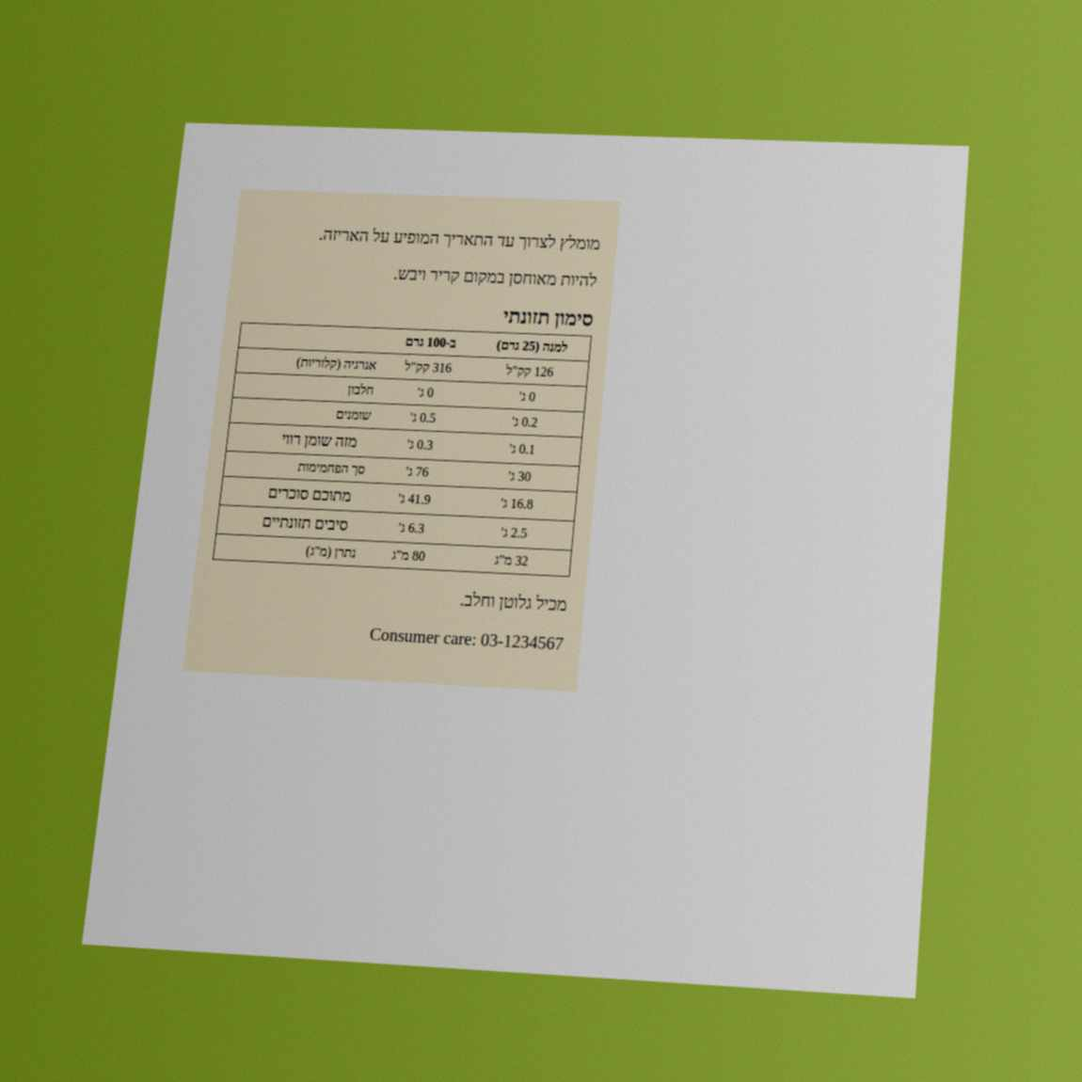carbs: (403, 462, 431, 481)
energy: (402, 357, 454, 377)
fat: (408, 408, 438, 427)
protein: (415, 383, 436, 401)
